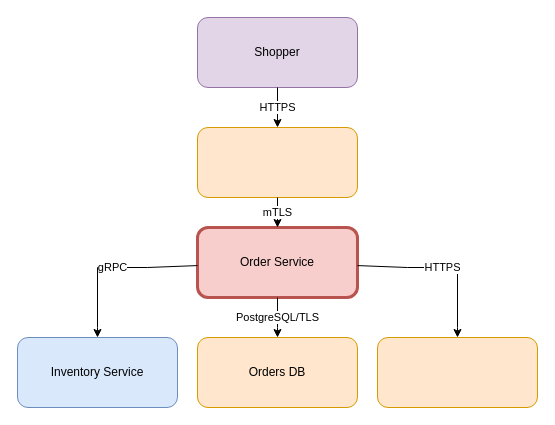
Image size: 555x425. Some labels were removed from this diagram. The centre of each missing label's shape, as x and y in pixels:
"API Gateway" belongs at [277,162].
"Stripe" belongs at [457,372].
